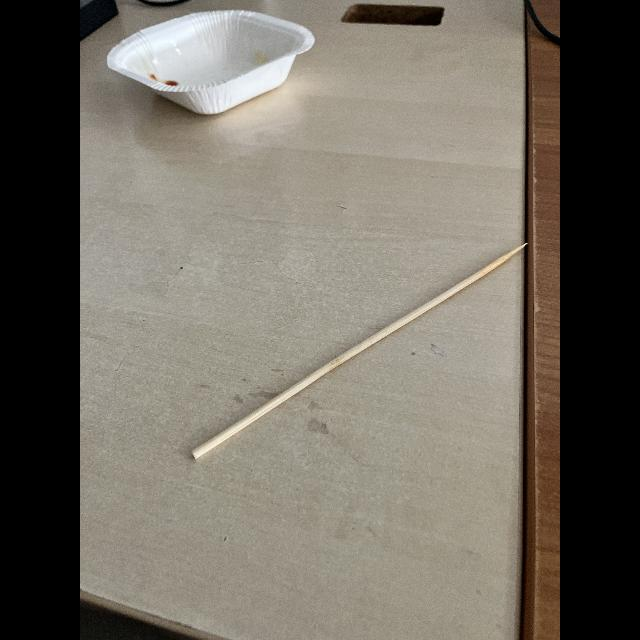cardboard_bowl: (92, 0, 330, 150)
stick: (177, 228, 535, 506)
